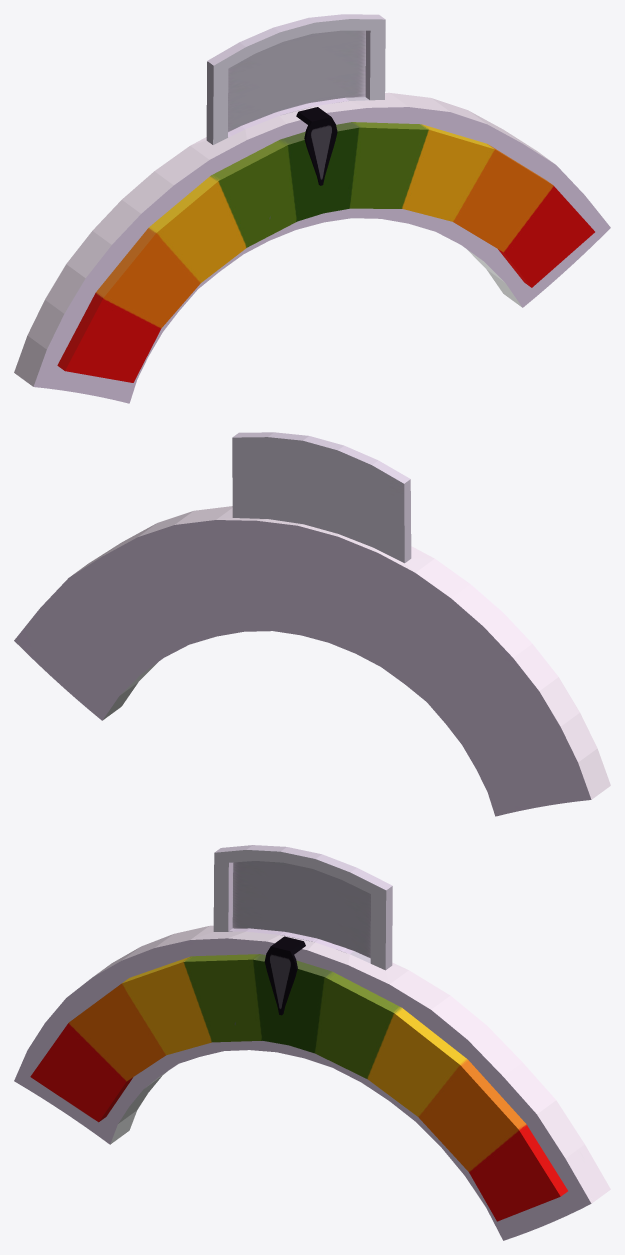
File: powerBar_2.fbx
3 renders of one model, top to bottom at view 1: azimuth 30°, elevation 25°; view 2: azimuth 150°, elevation 25°; view 3: azimuth 330°, elevation 25°, orthographic.
Parts seen in each view (by area): view 1: Cube.001, Cube, Plane; view 2: Cube; view 3: Cube.001, Cube, Plane.
Boxes of the visible parts, box(x1,y1,x2,y2) form: Cube.001: box(57, 122, 594, 382); Cube: box(14, 14, 610, 403); Plane: box(296, 107, 337, 185); Cube: box(14, 432, 610, 816); Cube.001: box(30, 954, 567, 1221); Cube: box(14, 845, 610, 1240); Plane: box(264, 936, 305, 1015).
Bounding box in the file's own units: 524 × 283 × 47.77.
Materials: 1 (1 with a texture image).
